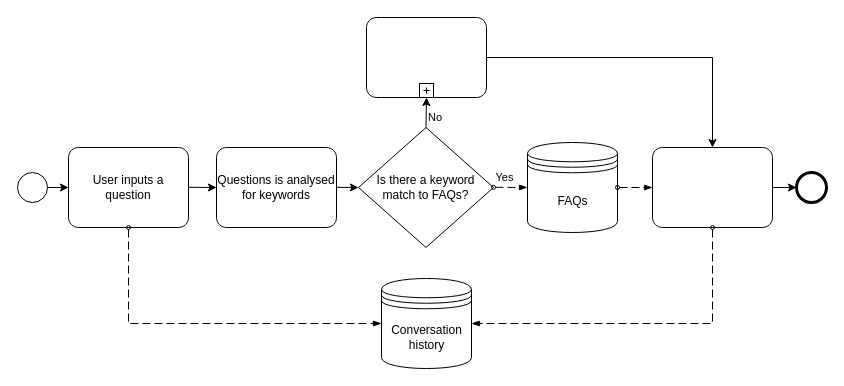
The diagram is 844 pixels wide and 386 high, and some of its shapes have lost their labels. The centre of each missing label's shape, as x and y in pixels:
Question passed to integrated Gen AI: the point at 426,57
Response returned to user: the point at 712,187
